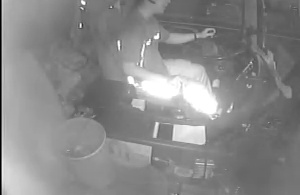paper: (153, 120, 207, 146)
